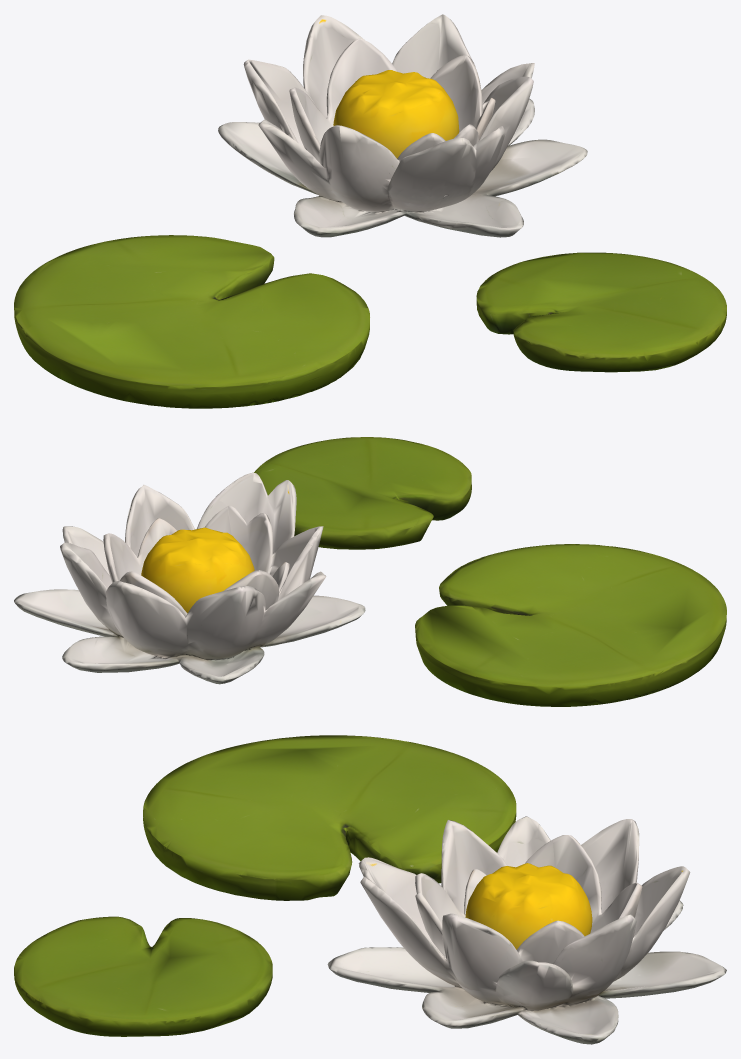
The model's file is lily_pad.glb.
3 views of the same model, one above another, from view 1: azimuth 30°, elevation 25°; view 2: azimuth 150°, elevation 25°; view 3: azimuth 270°, elevation 25° (orthographic). The views are drawn at different scales.
Visible parts, largest first — view 1: node_0; view 2: node_0; view 3: node_0.
Part boxes in pixels (x1,y1,x2,y2): node_0: (14,14,726,408); node_0: (14,437,726,706); node_0: (14,735,726,1044).
Bounding box in the file's own units: 1.01 × 0.189 × 0.9984.
Materials: 1 (1 with a texture image).
